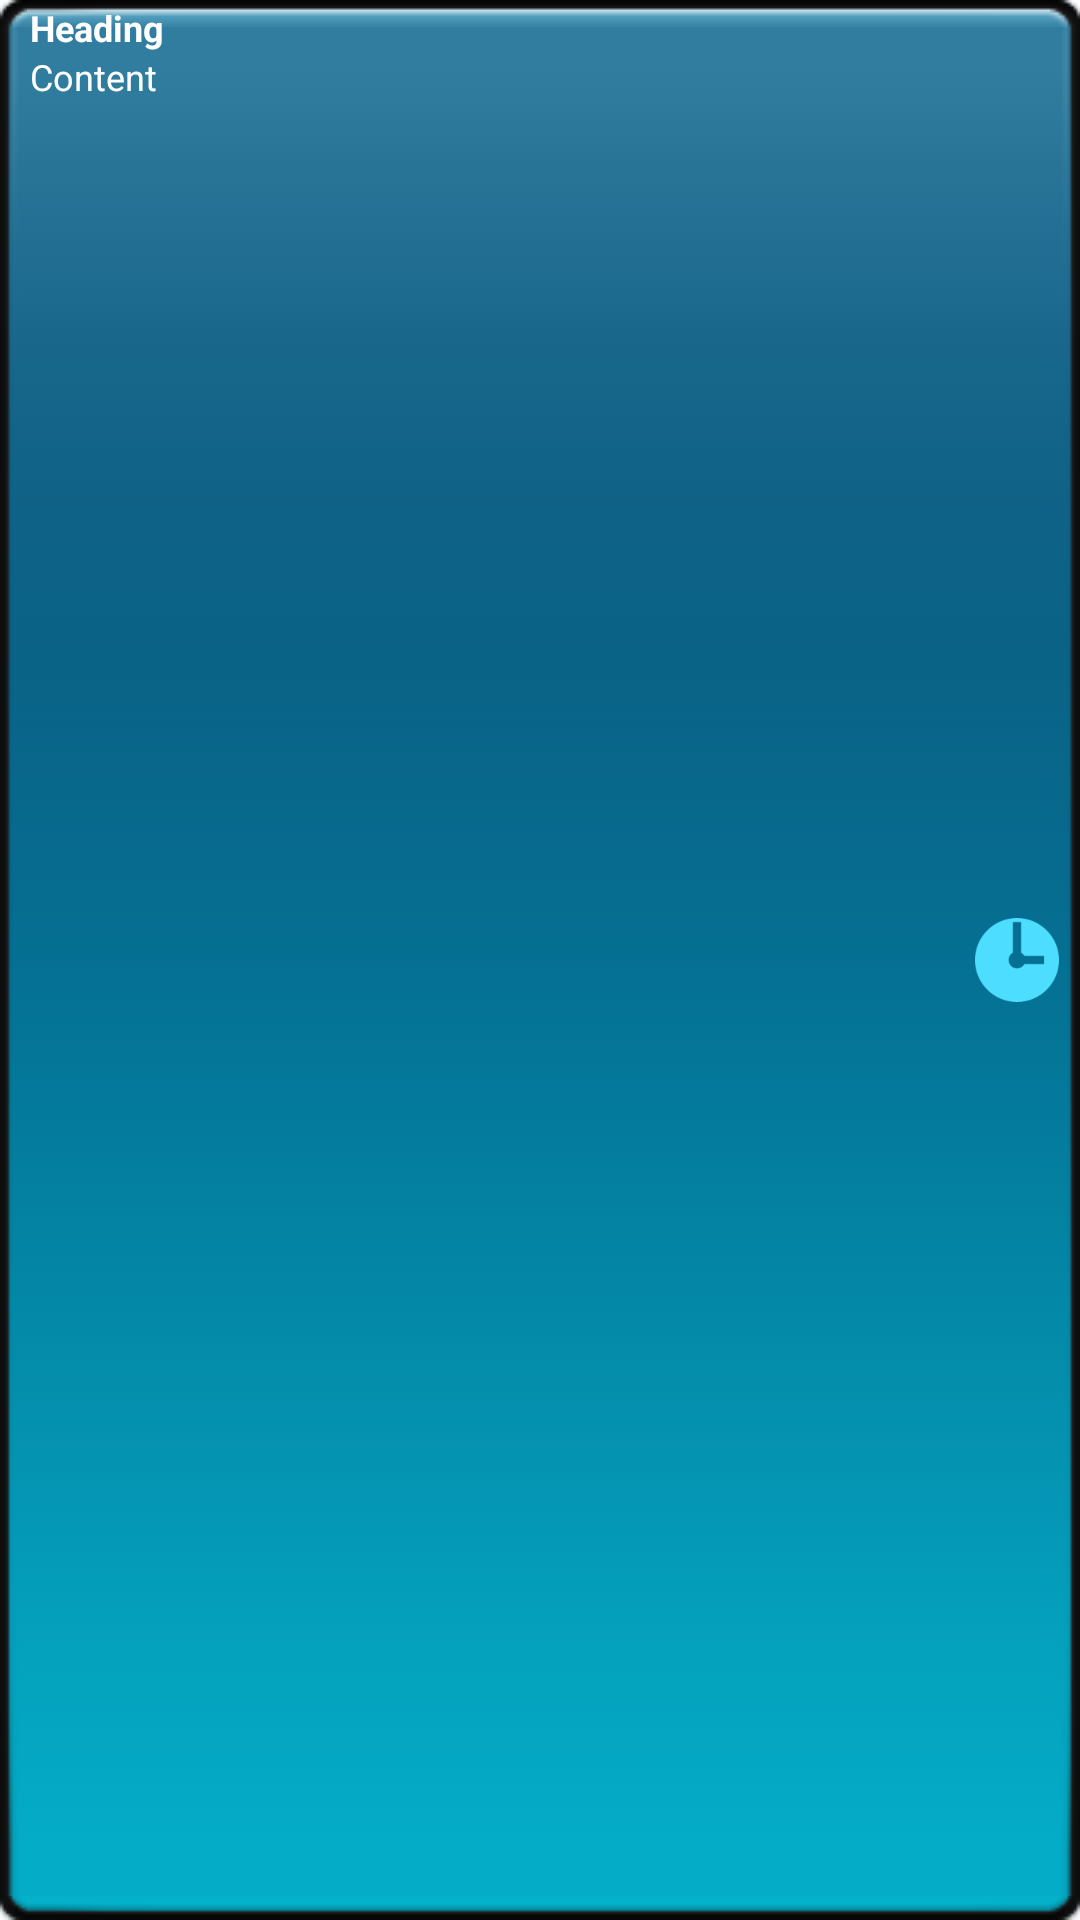

Icons on this 1080px×1920px Android screen, each with the point to tap as (x,y):
clockbuttonstates: (1017,960)
